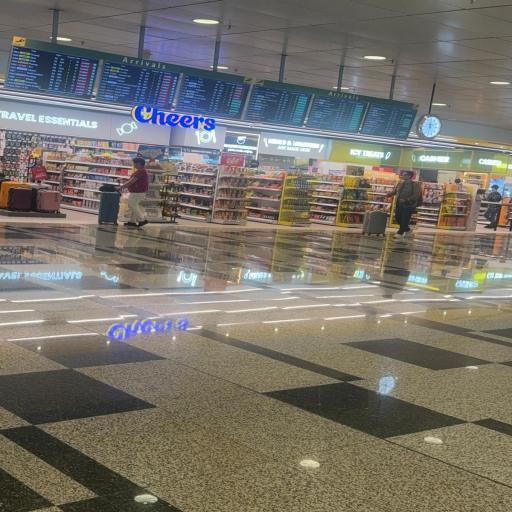person_with_luggage_left: (362, 171, 423, 239)
